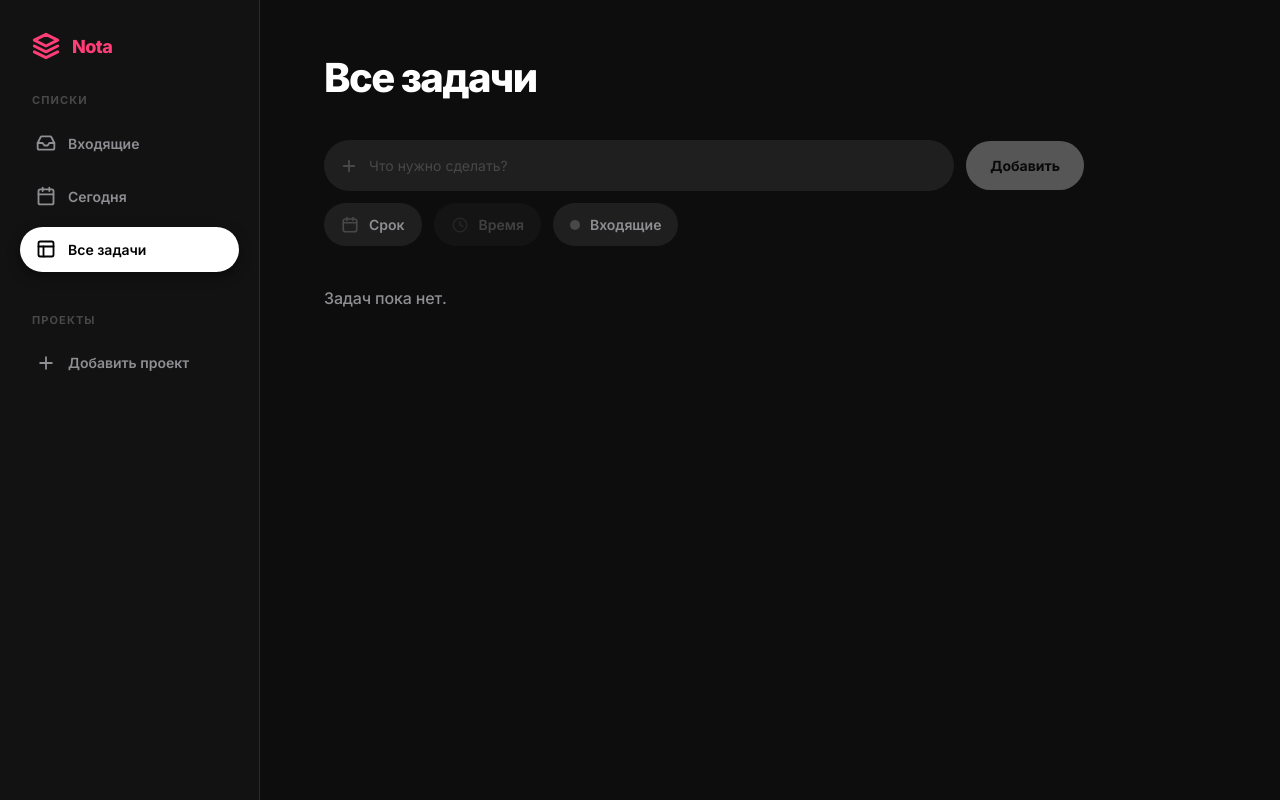
форма добавления задачи › без даты отправляет пустой срок
Expected: the text "Задач пока нет." is shown, left=324, top=288, right=447, bottom=308
Type "Разобрать шкаф" into the field named "Заголовок новой задачи".
click(639, 166); type("Разобрать шкаф")  # box left=324, top=140, right=954, bottom=191
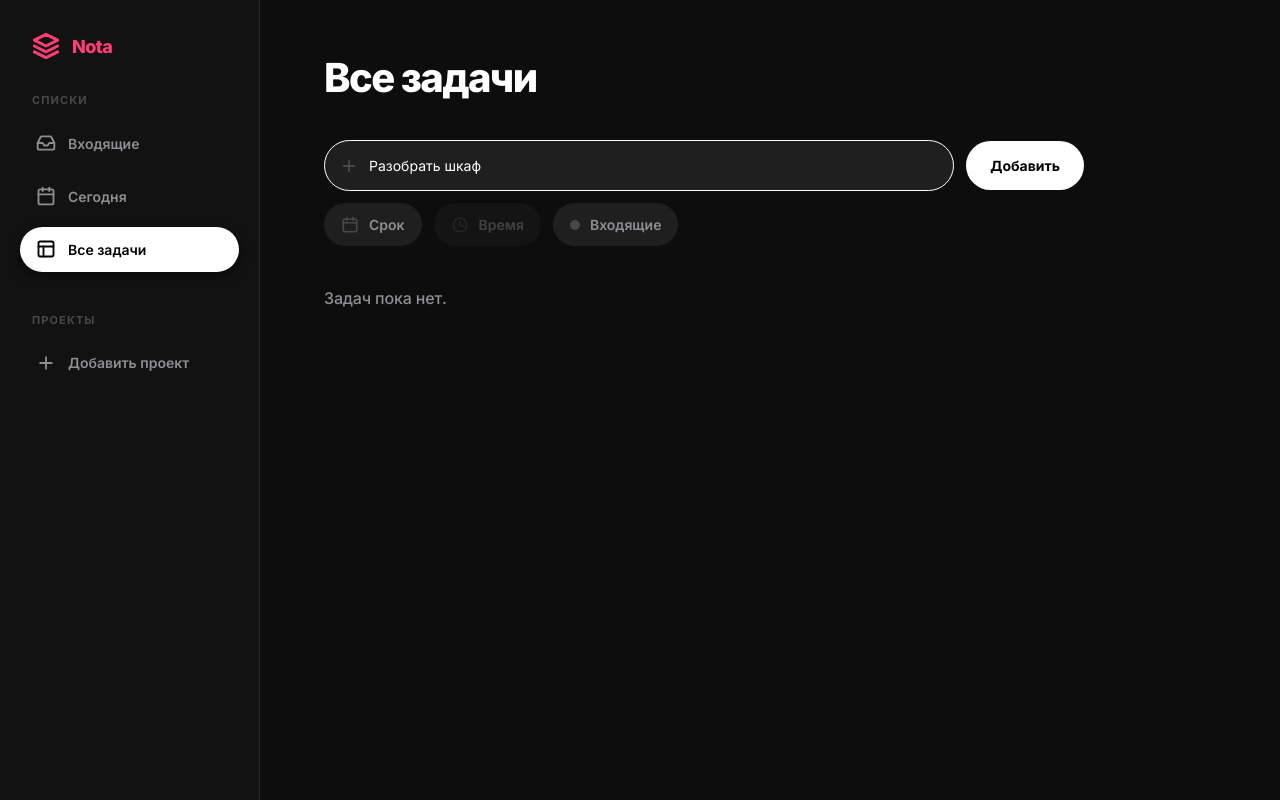
Click the button "Добавить".
click(1025, 166)  # box left=966, top=141, right=1084, bottom=190
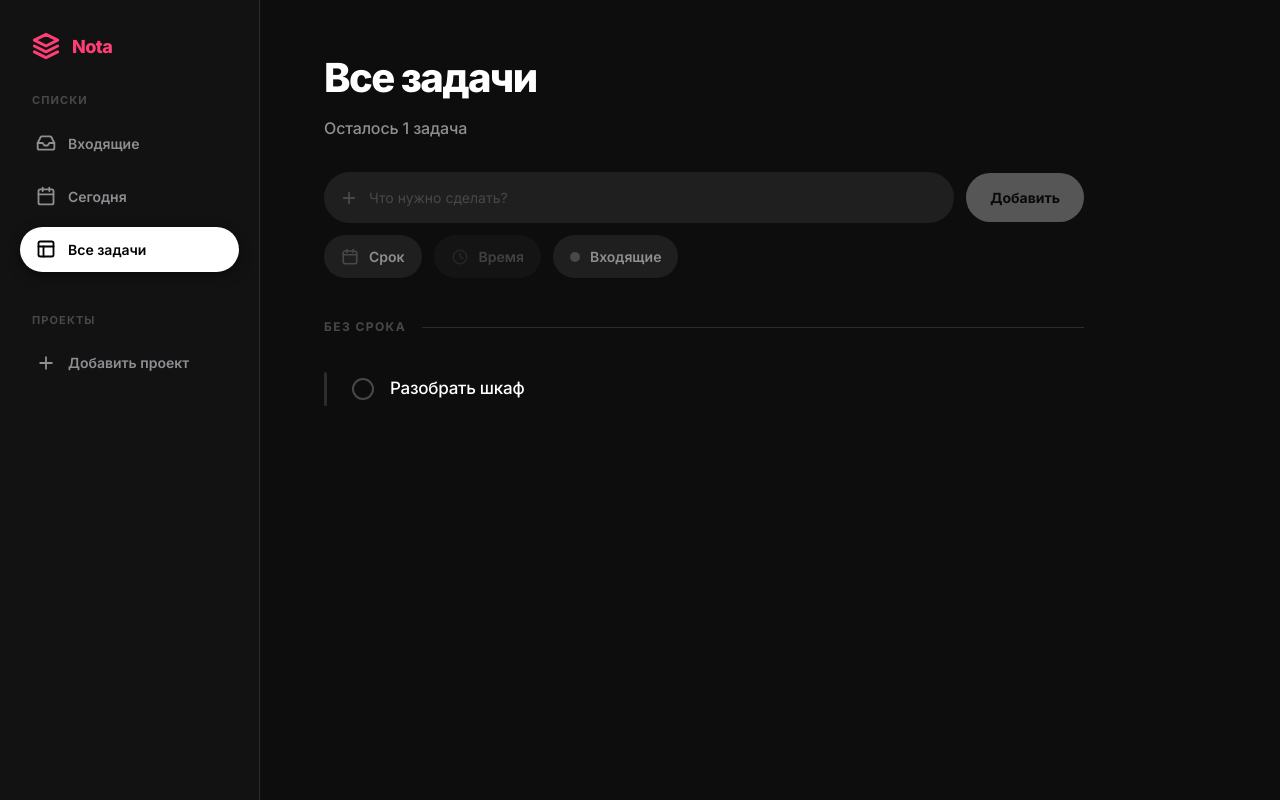
Now the button "Разобрать шкаф" is shown, box left=390, top=376, right=524, bottom=402
